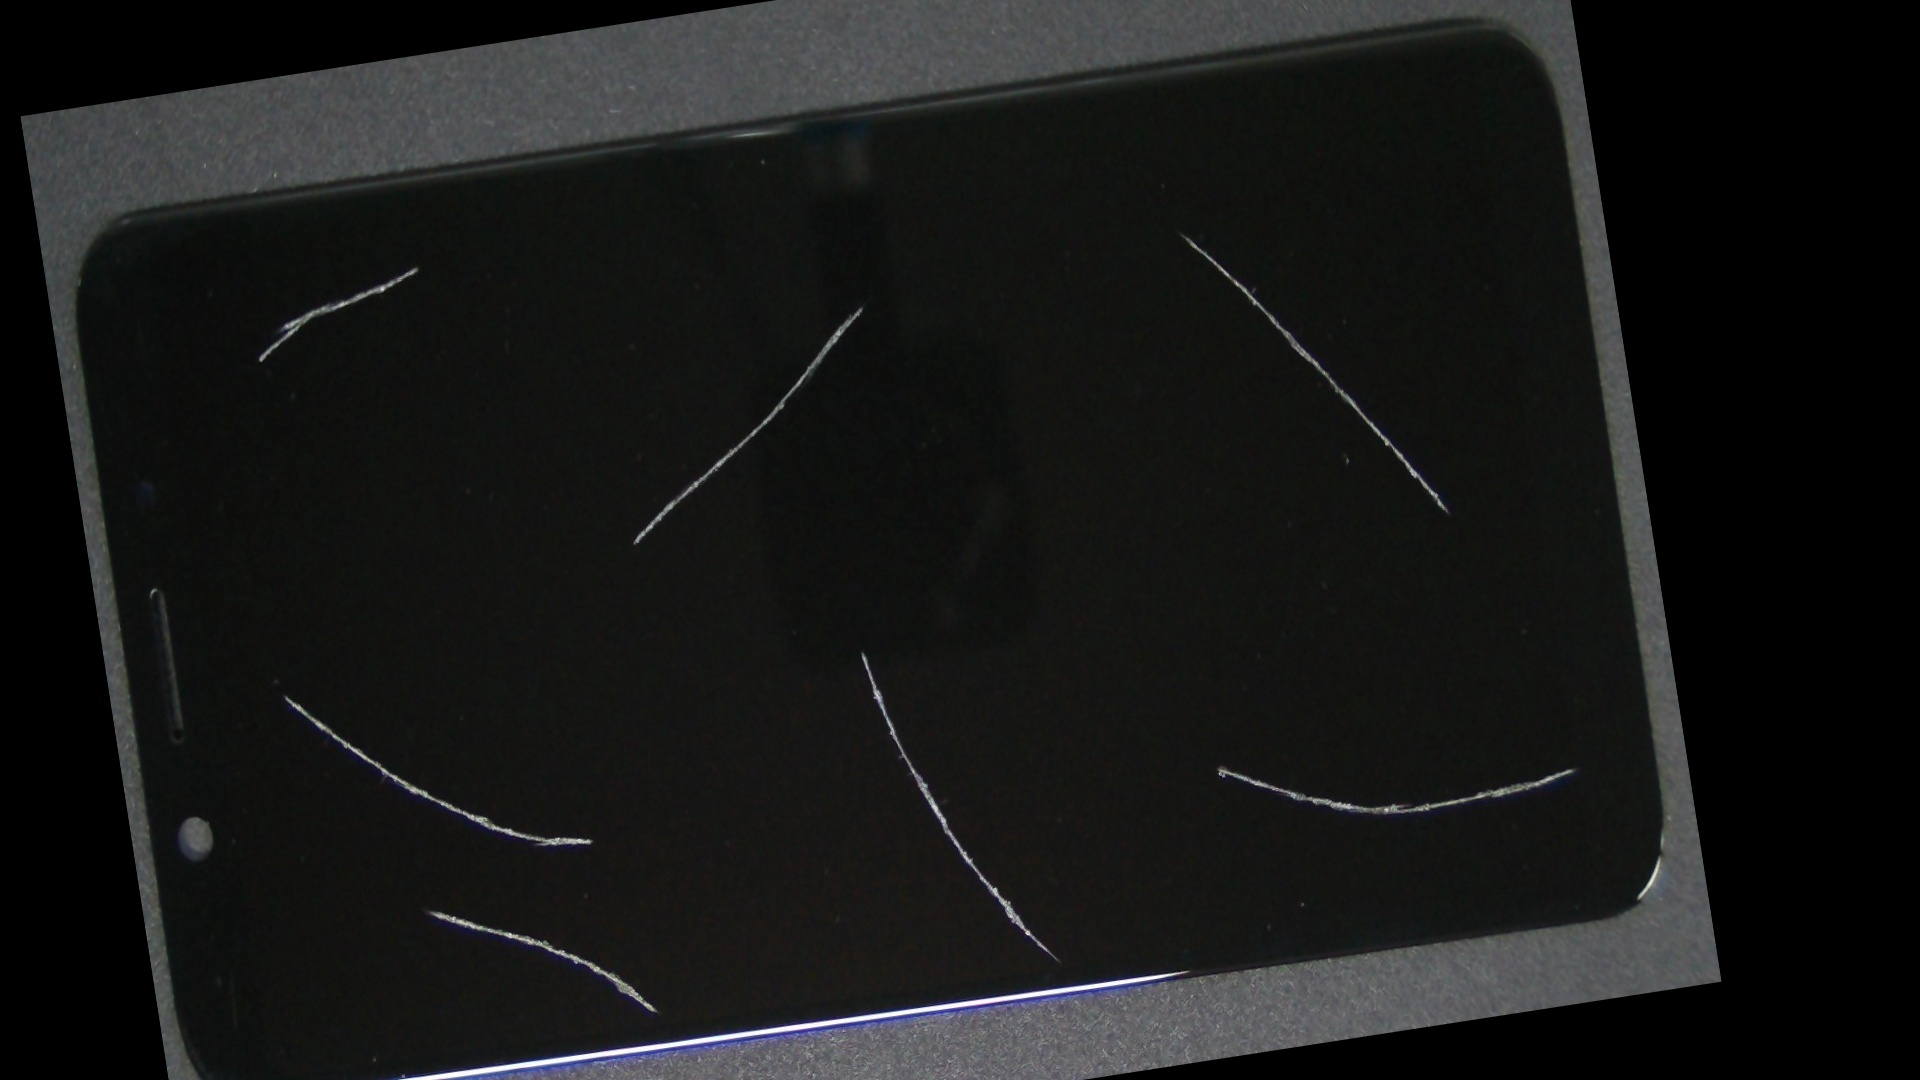oil: (620, 286, 1721, 1080), (440, 269, 1279, 1033), (600, 25, 1619, 464), (442, 88, 1282, 524), (223, 469, 605, 1080), (150, 378, 413, 1010), (218, 136, 611, 398)
